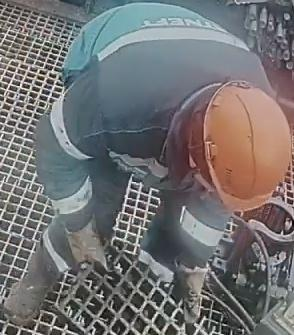gloves: (64, 216, 116, 275), (172, 255, 209, 324)
helmet: (203, 78, 292, 211)
vest: (60, 3, 276, 196)
